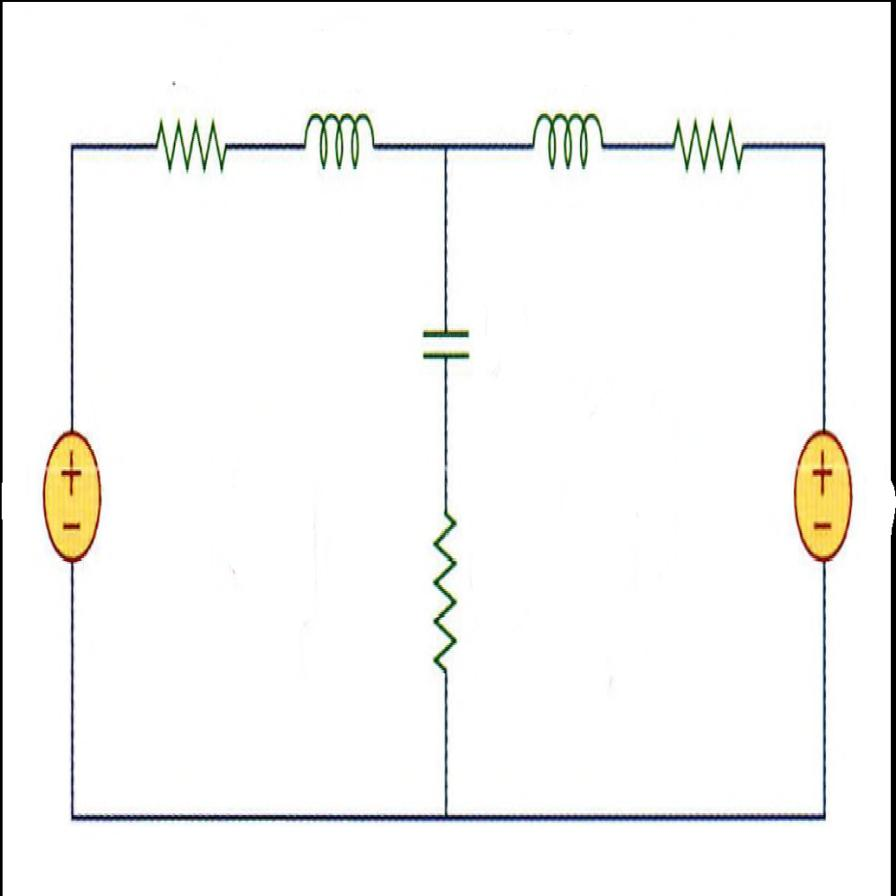C2: (409, 272, 480, 406)
L1: (517, 66, 611, 188), (296, 79, 385, 190)
R1: (137, 92, 238, 207), (664, 94, 752, 197)
R2: (428, 480, 465, 687)
V1: (31, 407, 110, 576), (783, 418, 862, 586)
